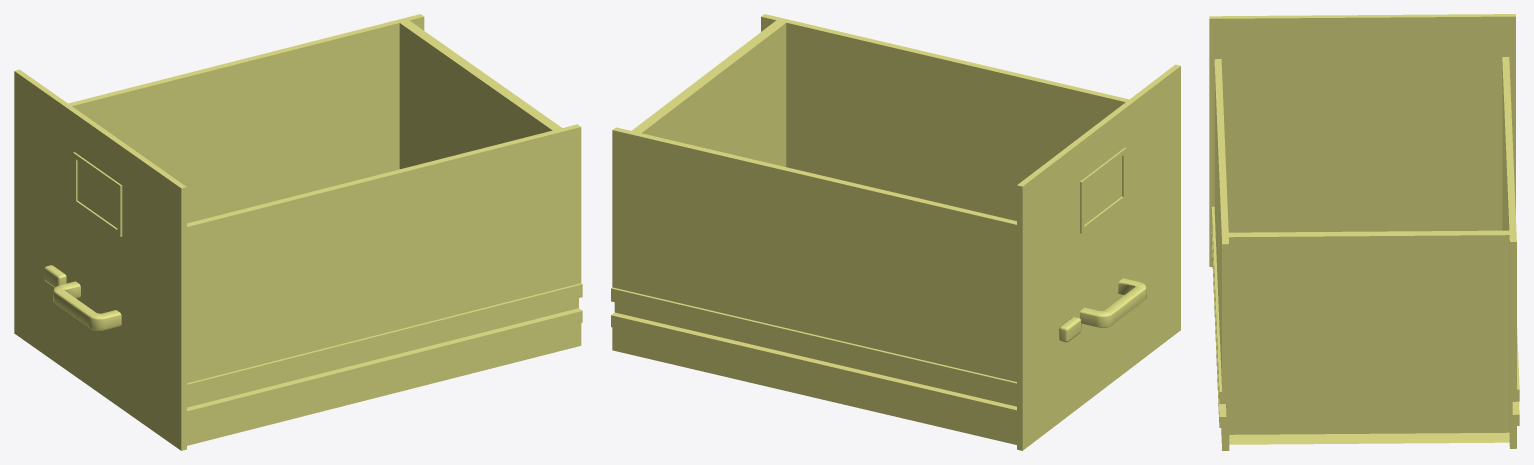
File: Cabinat_draw_v01_01_alsu.fbx
3 renders of one model, left to right at view 1: azimuth 30°, elevation 25°; view 2: azimuth 150°, elevation 25°; view 3: azimuth 270°, elevation 25°, orthographic. The views are drawn at different scales.
Visible parts, largest first — view 1: poly_draw_02; view 2: poly_draw_02; view 3: poly_draw_02.
Part boxes in pixels (x1,y1,x2,y2): poly_draw_02: (14,14,582,450); poly_draw_02: (611,14,1180,450); poly_draw_02: (1209,14,1519,450).
Size of the model in its own units: 65.63 by 37.74 by 42.79.
